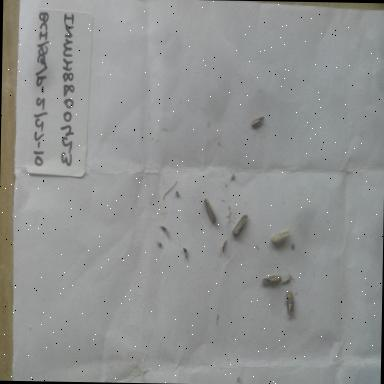pbw: (201, 196, 218, 225), (282, 289, 298, 319), (232, 213, 250, 238), (270, 226, 292, 246), (261, 271, 283, 288), (250, 112, 266, 130)
